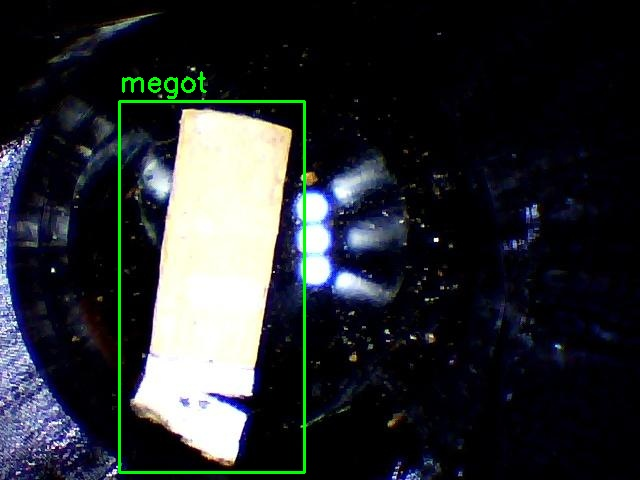megot: (119, 101, 304, 472)
